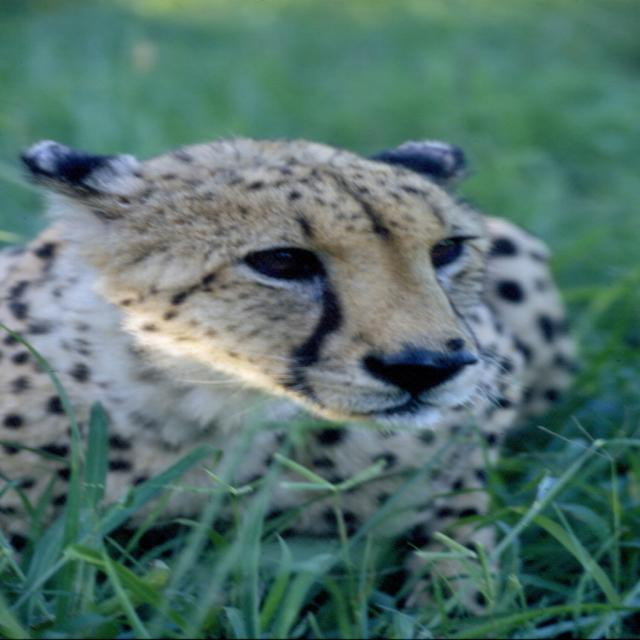Cheetah: (0, 129, 578, 616)
